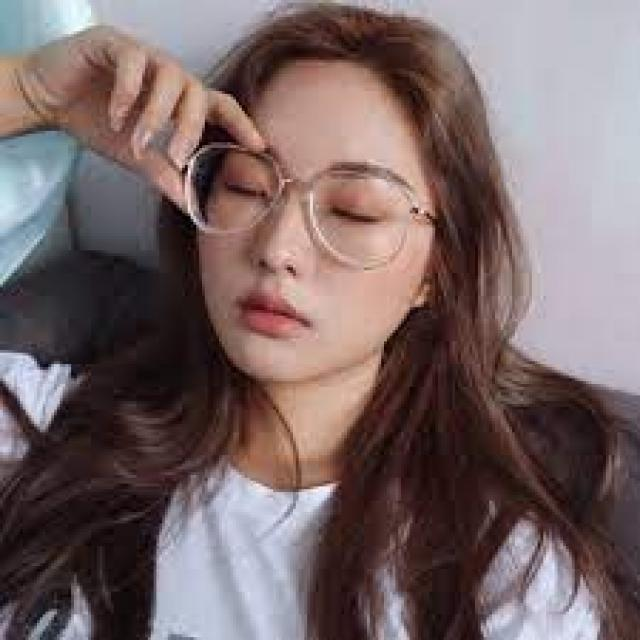Glasses: (178, 139, 446, 264)
